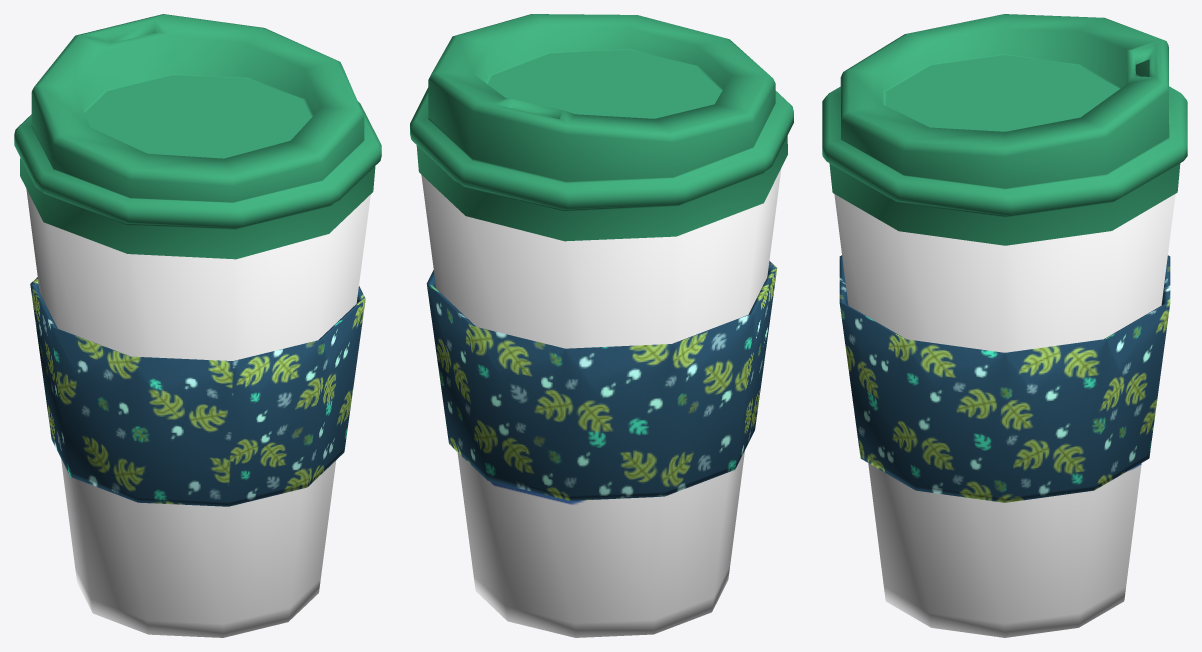
Rendered from New_Classic_Coffee 1.fbx.
The picture shows the model from 3 angles, left to right: view 1: azimuth 30°, elevation 25°; view 2: azimuth 150°, elevation 25°; view 3: azimuth 270°, elevation 25°; orthographic projection. The views are drawn at different scales.
Visible parts, largest first — view 1: Lid, Cupofcoffee, Sleeve; view 2: Cupofcoffee, Lid, Sleeve; view 3: Lid, Cupofcoffee, Sleeve.
Part boxes in pixels (x1,y1,x2,y2): Lid: (14, 14, 381, 259); Cupofcoffee: (26, 189, 370, 637); Sleeve: (30, 277, 365, 506); Cupofcoffee: (421, 168, 781, 637); Lid: (410, 14, 793, 241); Sleeve: (426, 261, 777, 500); Lid: (822, 14, 1187, 245); Cupofcoffee: (834, 194, 1175, 637); Sleeve: (839, 255, 1170, 502).
Bounding box in the file's own units: 0.1209 × 0.184 × 0.1164.
2 materials, 1 textured.
